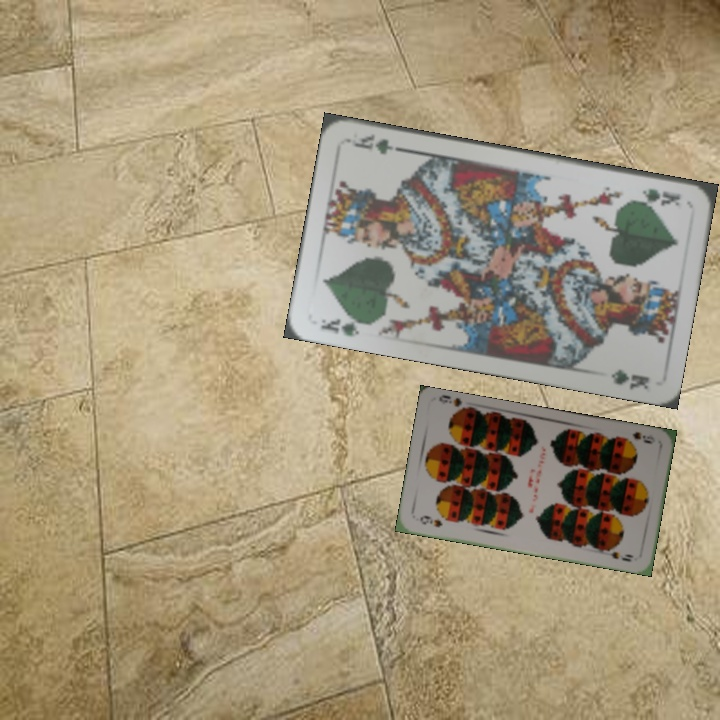GK: (316, 313, 371, 339), (628, 184, 683, 209)
S9: (618, 428, 658, 446), (416, 511, 445, 530)
